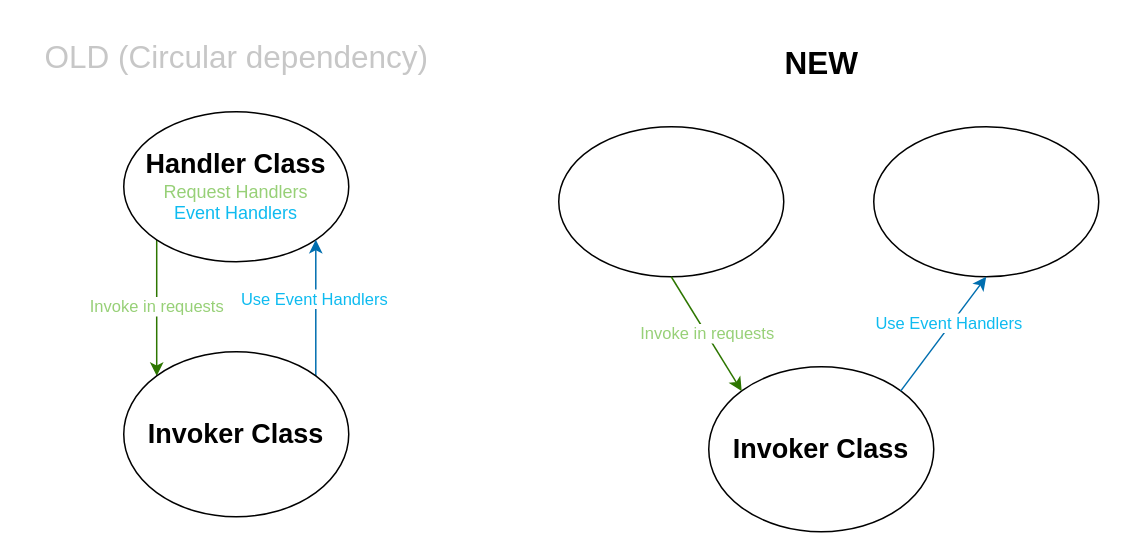
Some shapes in this 1125 by 558 pixel diagram are drawn without their labels. Here are the shapes that lost their labels. From the top down, the centre of each, then its label:
At (670,201): "Requests Class Request Handlers".
At (985,201): "Events Class Event Handlers".
